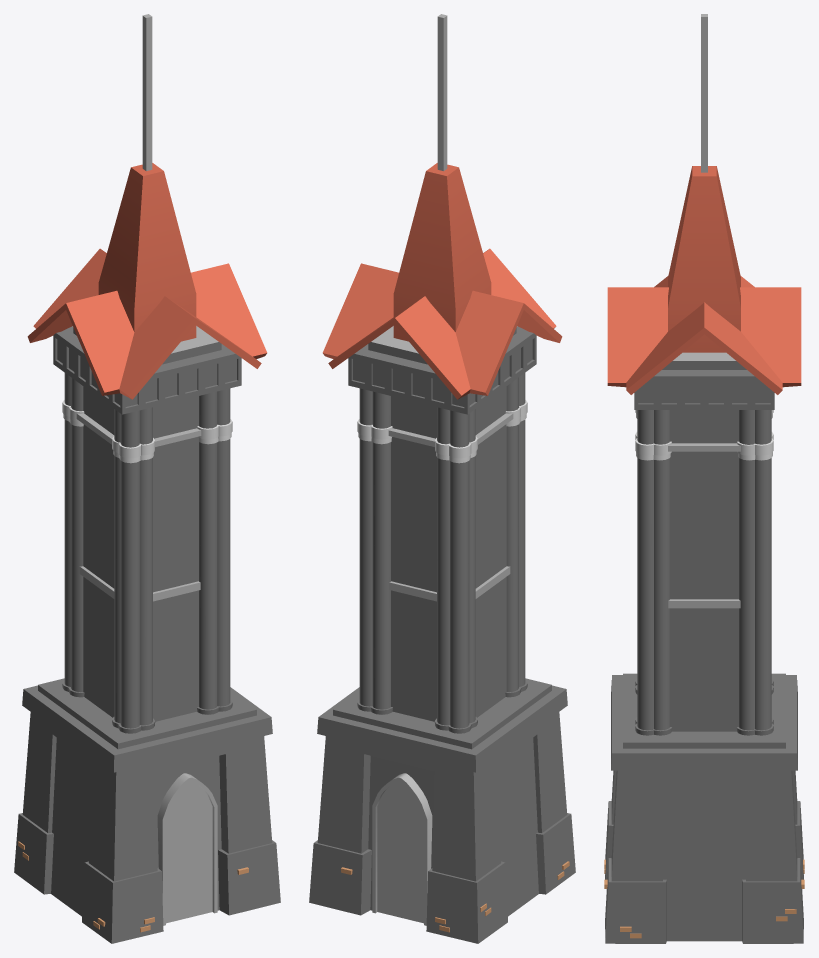
The model's file is TOWER.fbx.
The picture shows the model from 3 angles, left to right: view 1: azimuth 30°, elevation 25°; view 2: azimuth 150°, elevation 25°; view 3: azimuth 270°, elevation 25°; orthographic projection.
Visible parts, largest first — view 1: Cube.003, Cube.054, Cube.052, Cylinder.008, Cube.053, Cylinder.009, Plane.012, Cube.051, Cylinder.007, Cylinder.011; view 2: Cube.003, Cube.054, Cube.052, Cylinder.008, Cube.053, Cylinder.009, Plane.012, Cube.051, Cylinder.007, Cylinder.011; view 3: Cube.003, Cube.054, Cube.052, Cylinder.008, Cylinder.007, Cube.053, Cube.051, Cylinder.011.
Boxes of the visible parts, x1,y1,x2,y2 form: Cube.003: (14,678,280,943); Cube.054: (73,326,221,721); Cube.052: (27,248,267,399); Cylinder.008: (62,373,232,733); Cube.053: (98,14,196,341); Cylinder.009: (139,391,219,730); Plane.012: (157,773,217,925); Cube.051: (53,326,241,414); Cylinder.007: (68,377,120,728); Cylinder.011: (62,400,232,458); Cube.003: (309,678,575,943); Cube.054: (368,326,516,721); Cube.052: (322,248,562,399); Cylinder.008: (357,373,527,733); Cube.053: (393,14,491,341); Cylinder.009: (370,391,450,730); Plane.012: (372,773,432,925); Cube.051: (348,326,536,414); Cylinder.007: (469,377,521,728); Cylinder.011: (357,400,527,458); Cube.003: (605,673,803,943); Cube.054: (662,352,746,731); Cube.052: (607,276,801,394); Cylinder.008: (635,410,773,735); Cylinder.007: (652,410,756,735); Cube.053: (668,14,740,352); Cube.051: (634,370,774,409); Cylinder.011: (635,410,773,455).
Size of the model in its own units: 329 by 1603 by 328.
